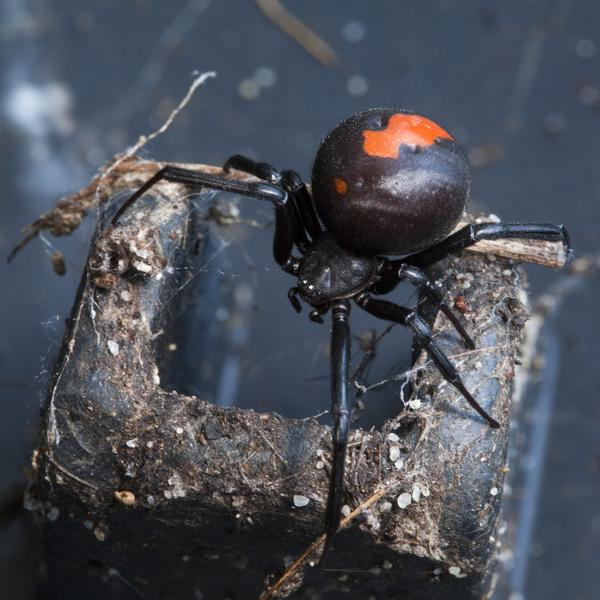Redback Spider: (56, 106, 566, 536)
